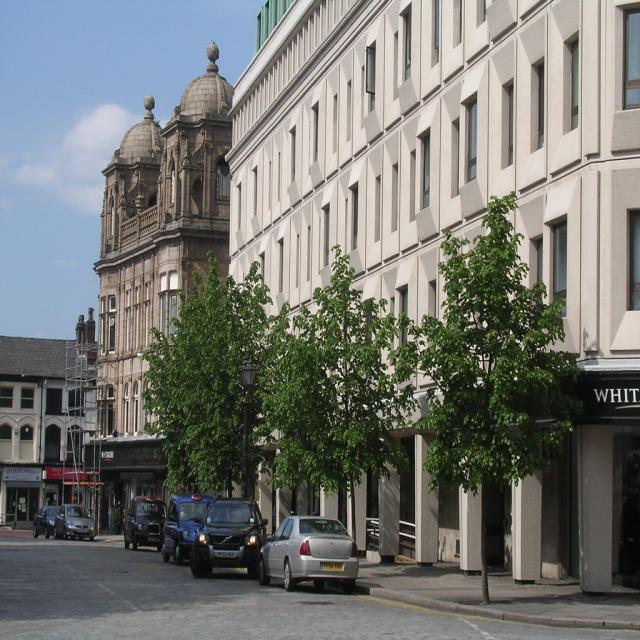car: (252, 527, 359, 596)
